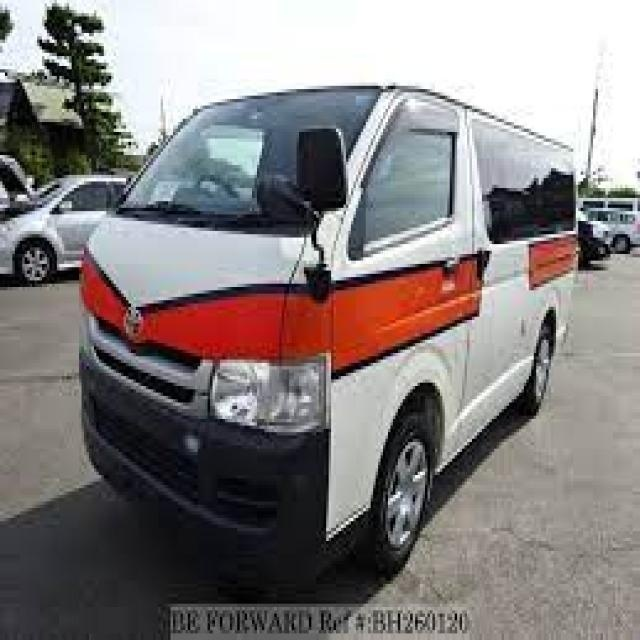Van: (79, 76, 583, 557)
